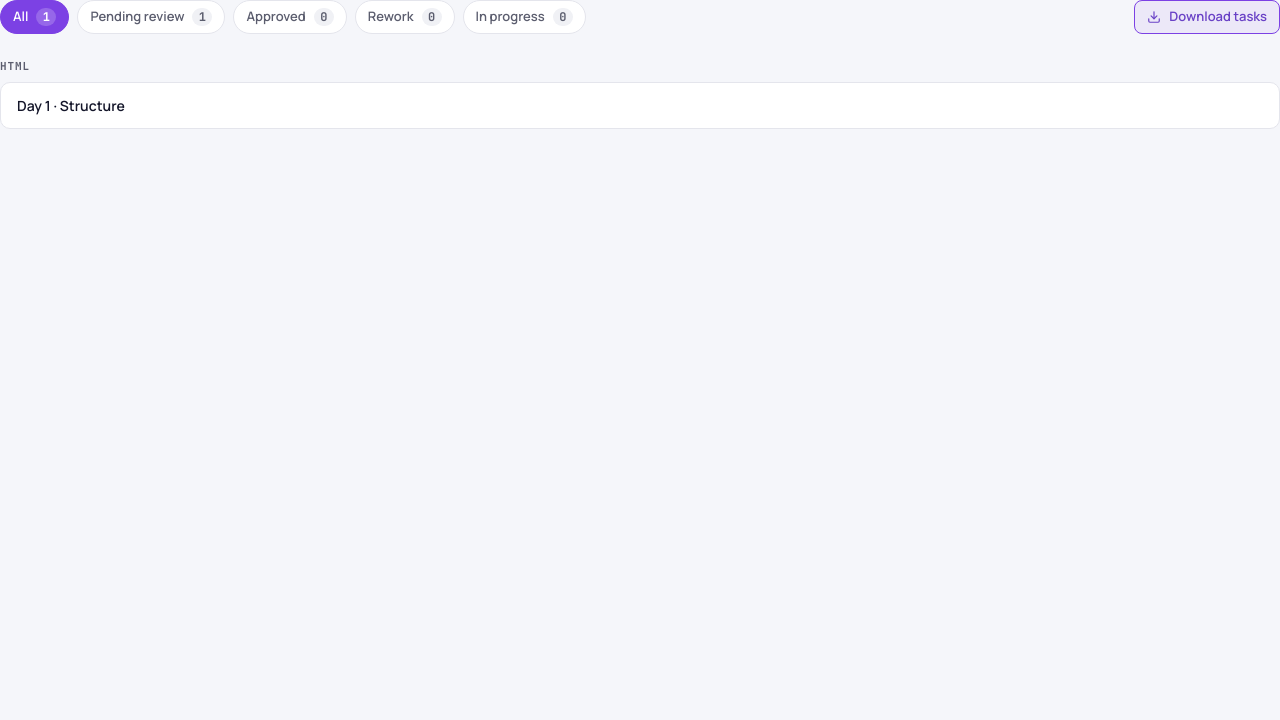
AdminTaskList › shows an error and leaves the dialog open when fetching code fails
The width and height of the screenshot is (1280, 720).
What coordinates should you click on to do the following:
click the button "Download tasks"
I would click on:
 (1207, 17)
Its box is [1134,0,1279,34].
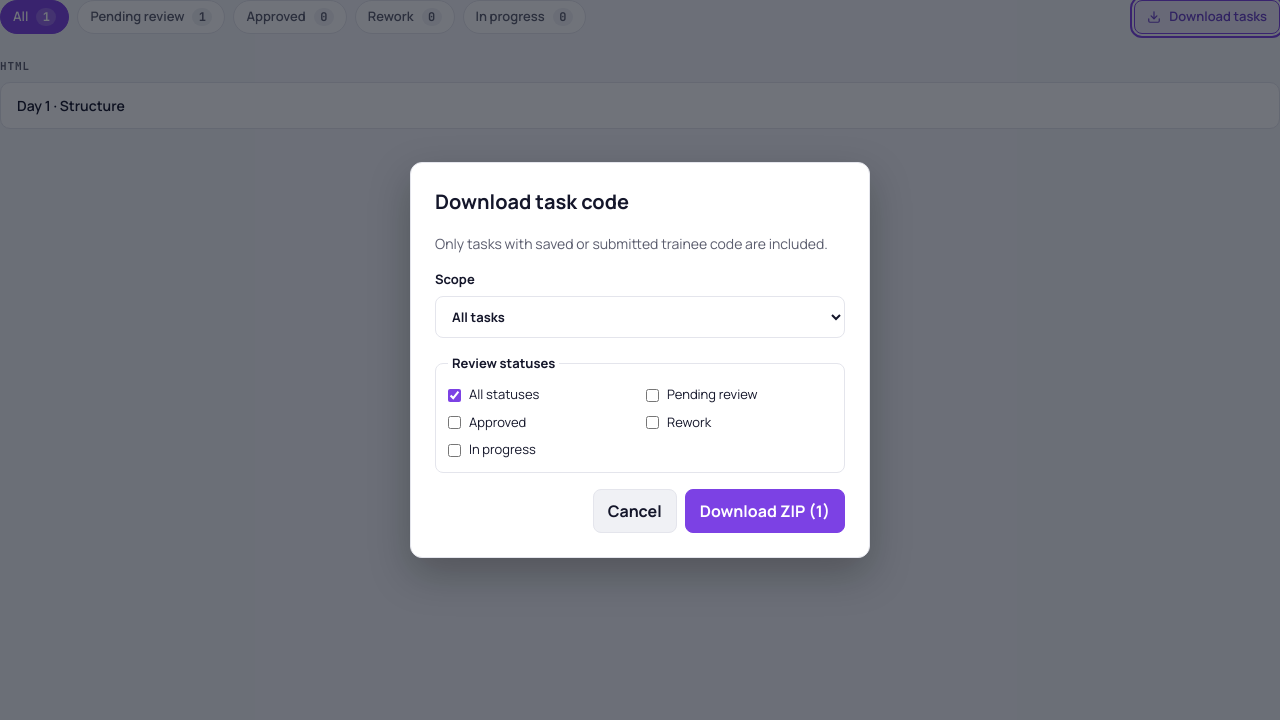
What coordinates should you click on to do the following:
click the button "Download ZIP (1)"
I would click on:
 (765, 511)
Its box is [685,489,845,533].
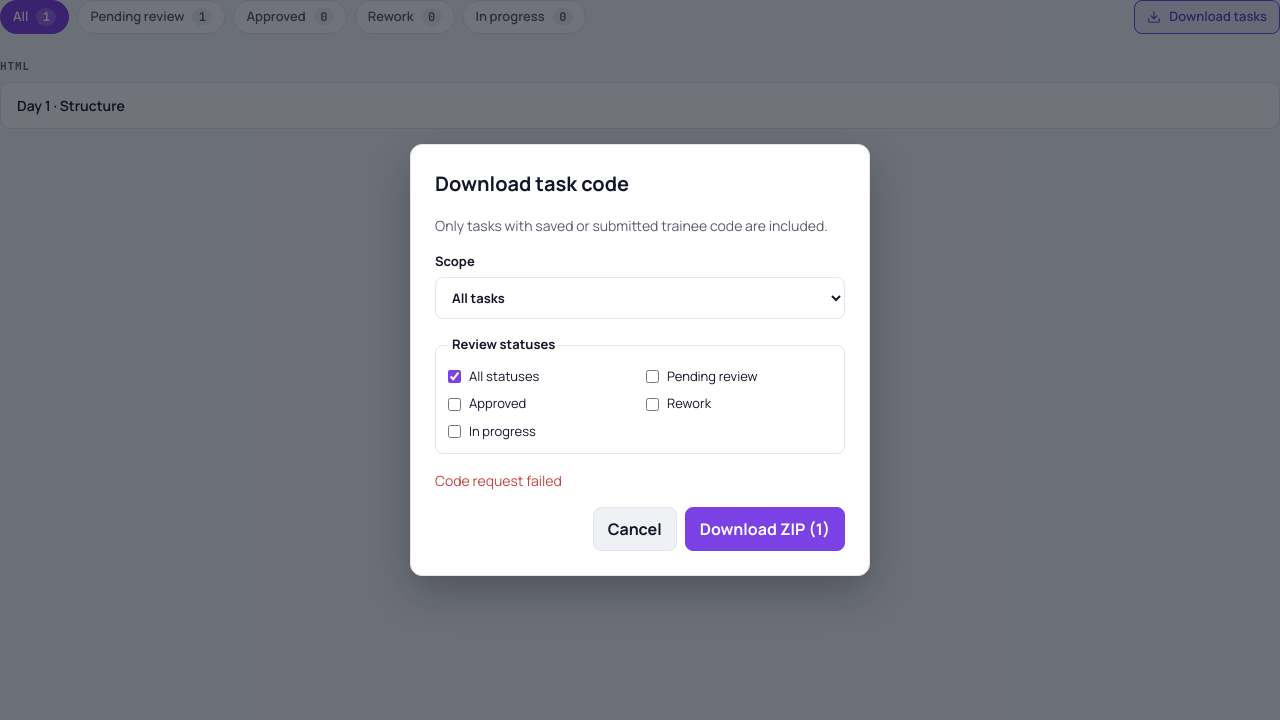
Expected: the dialog "Download task code" is shown, [410,144,870,576]
Expected: the message reads "Code request failed", [435,471,562,490]
